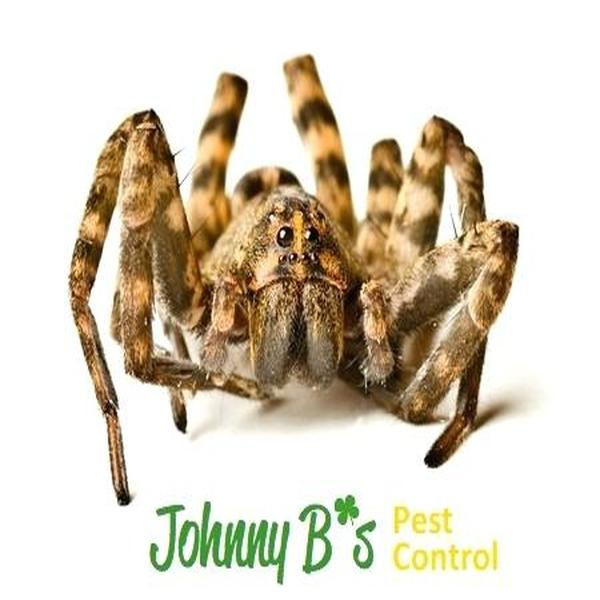Tarantula Spider: (75, 62, 519, 472)
